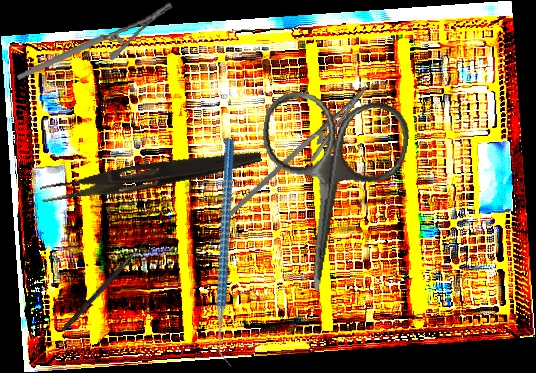Chopper: (147, 137, 312, 368)
Dressing Forceps: (39, 139, 263, 212)
Hook Surgical: (61, 236, 149, 334)
Iris Scissors: (241, 86, 414, 303)
Needle Holder: (219, 70, 380, 249), (11, 0, 179, 81)
